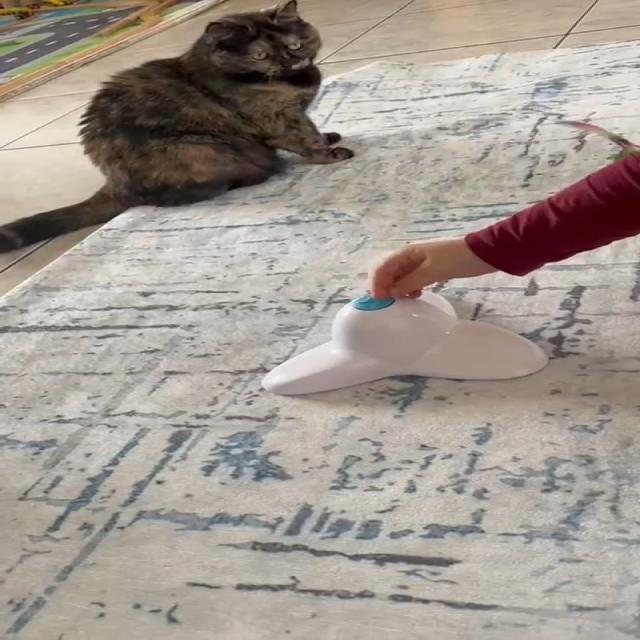authorized: (0, 0, 355, 254)
